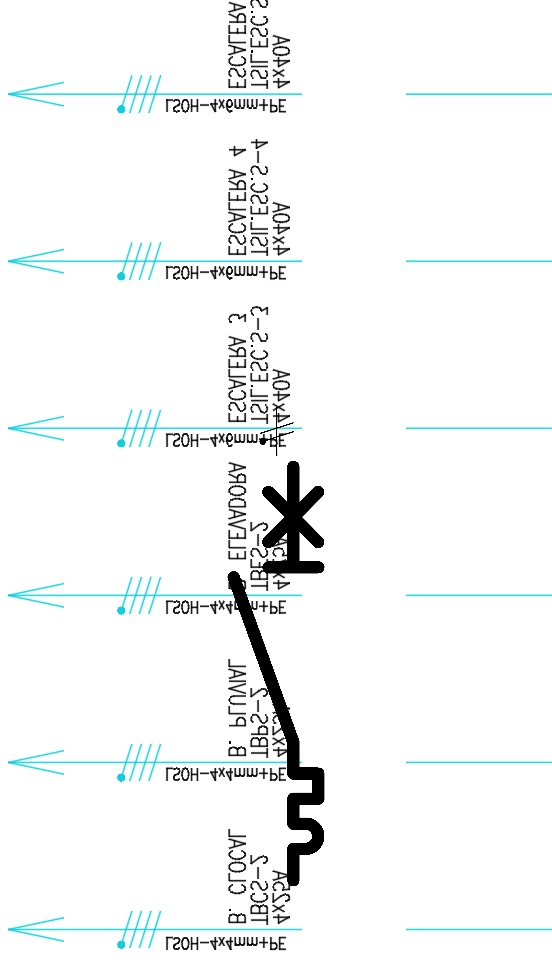interruptor_termomagnetico: (223, 456, 329, 891)
